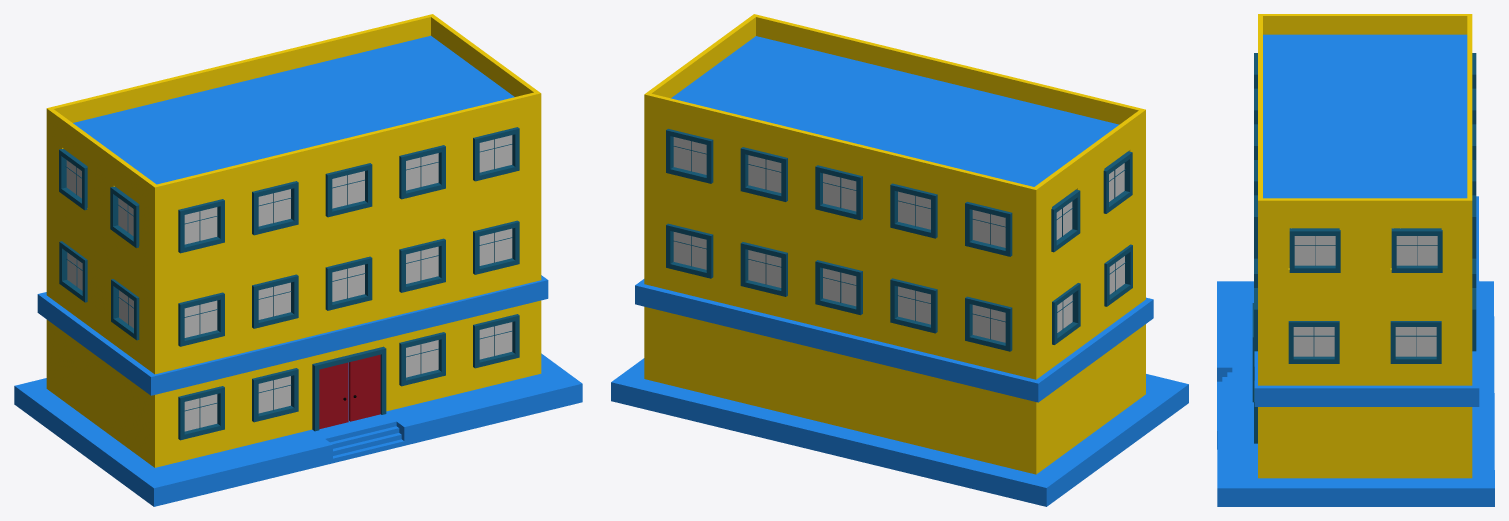
Rendered from build2.fbx.
3 renders of one model, left to right at view 1: azimuth 30°, elevation 25°; view 2: azimuth 150°, elevation 25°; view 3: azimuth 270°, elevation 25°, orthographic. The views are drawn at different scales.
Parts seen in each view (by area): view 1: BUILD_2; view 2: BUILD_2; view 3: BUILD_2.
Boxes of the visible parts, x1,y1,x2,y2 form: BUILD_2: (14, 14, 582, 506); BUILD_2: (611, 14, 1188, 506); BUILD_2: (1217, 14, 1494, 506).
Bounding box in the file's own units: 18912 × 12598 × 10713.
6 materials, 6 textured.
